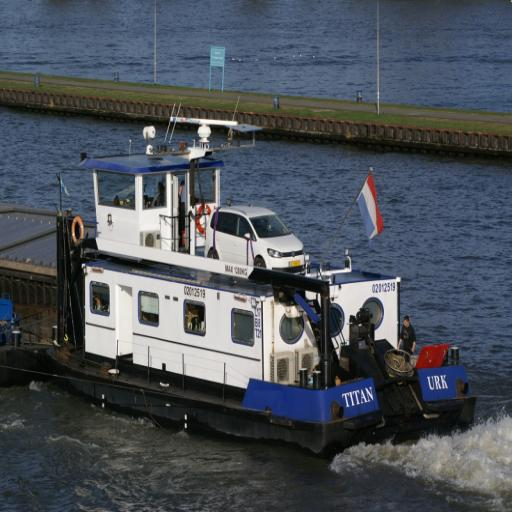tugboat: (44, 93, 483, 467)
